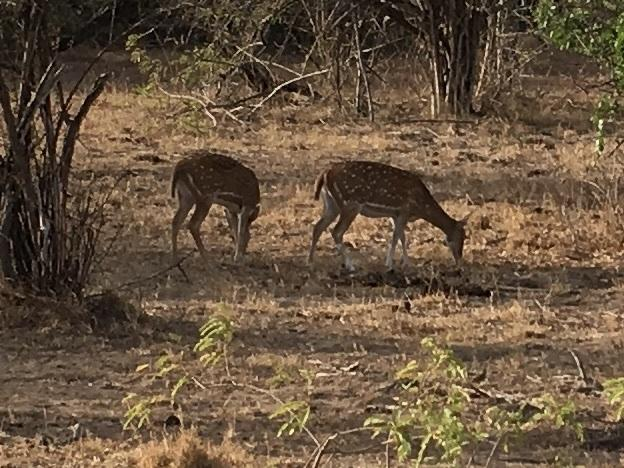Deer: (308, 161, 465, 270), (171, 151, 260, 262)
